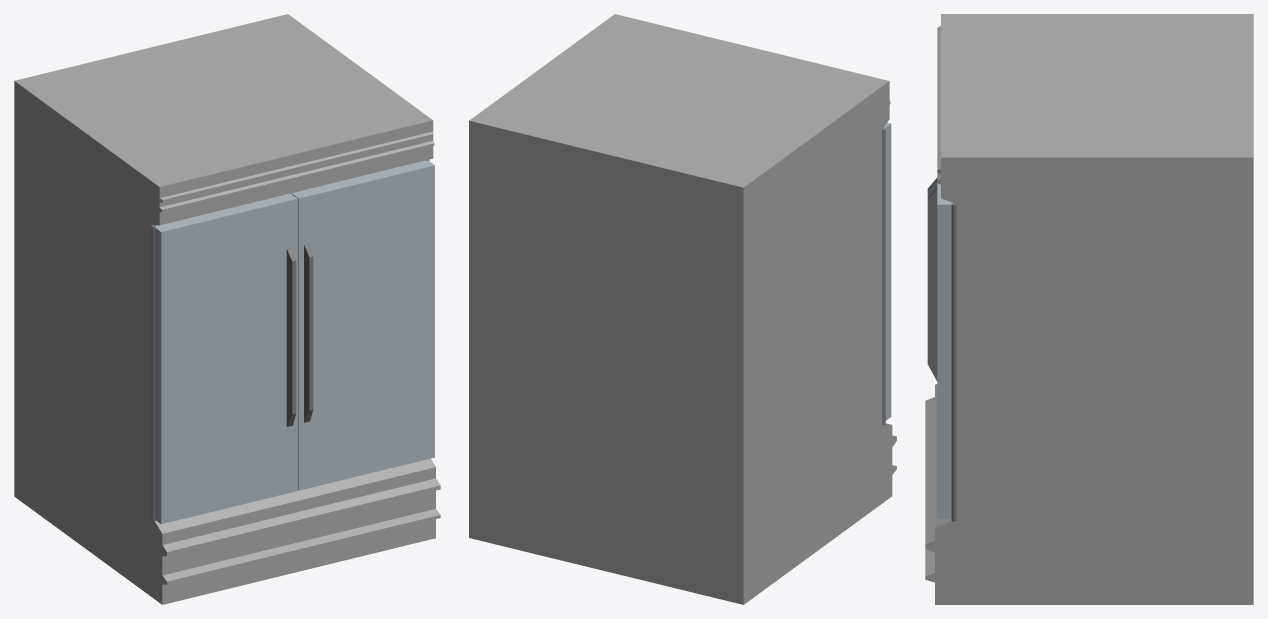
The model's file is Two_door_freezer.fbx.
3 views of the same model, side by side, from view 1: azimuth 30°, elevation 25°; view 2: azimuth 150°, elevation 25°; view 3: azimuth 270°, elevation 25° (orthographic). The views are drawn at different scales.
Parts seen in each view (by area): view 1: Kitchen_freezer:pCube8; view 2: Kitchen_freezer:pCube8; view 3: Kitchen_freezer:pCube8.
Boxes of the visible parts, left/top/right/bottom form: Kitchen_freezer:pCube8: left=14, top=14, right=440, bottom=604; Kitchen_freezer:pCube8: left=469, top=14, right=896, bottom=604; Kitchen_freezer:pCube8: left=925, top=14, right=1253, bottom=604.
Bounding box in the file's own units: 36.66 × 52.51 × 34.94.
